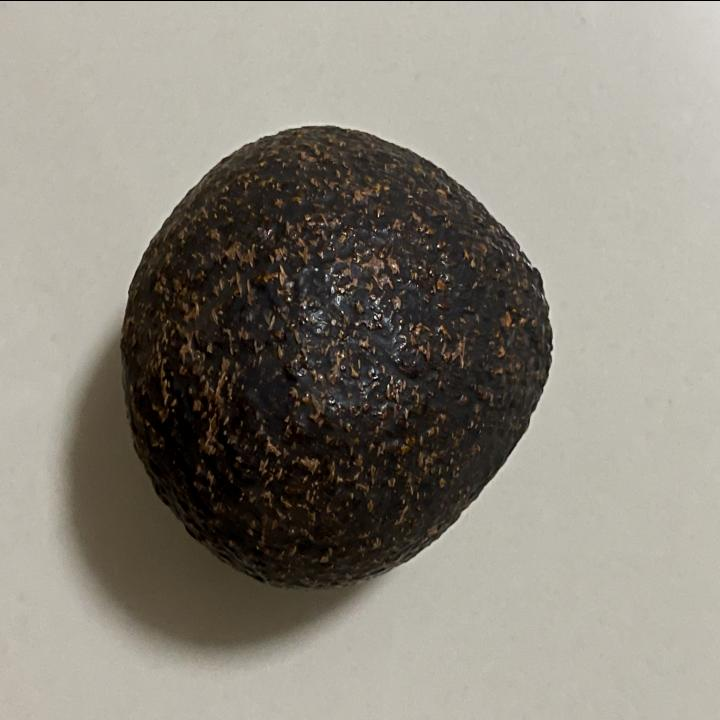Level3: (112, 111, 562, 599)
